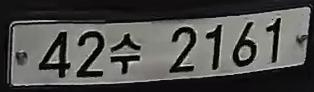1: (201, 22, 230, 72), (263, 16, 285, 66)
2: (167, 24, 198, 73), (76, 28, 105, 80)
4: (36, 27, 74, 80)
6: (230, 20, 261, 68)
수: (107, 30, 146, 78)
